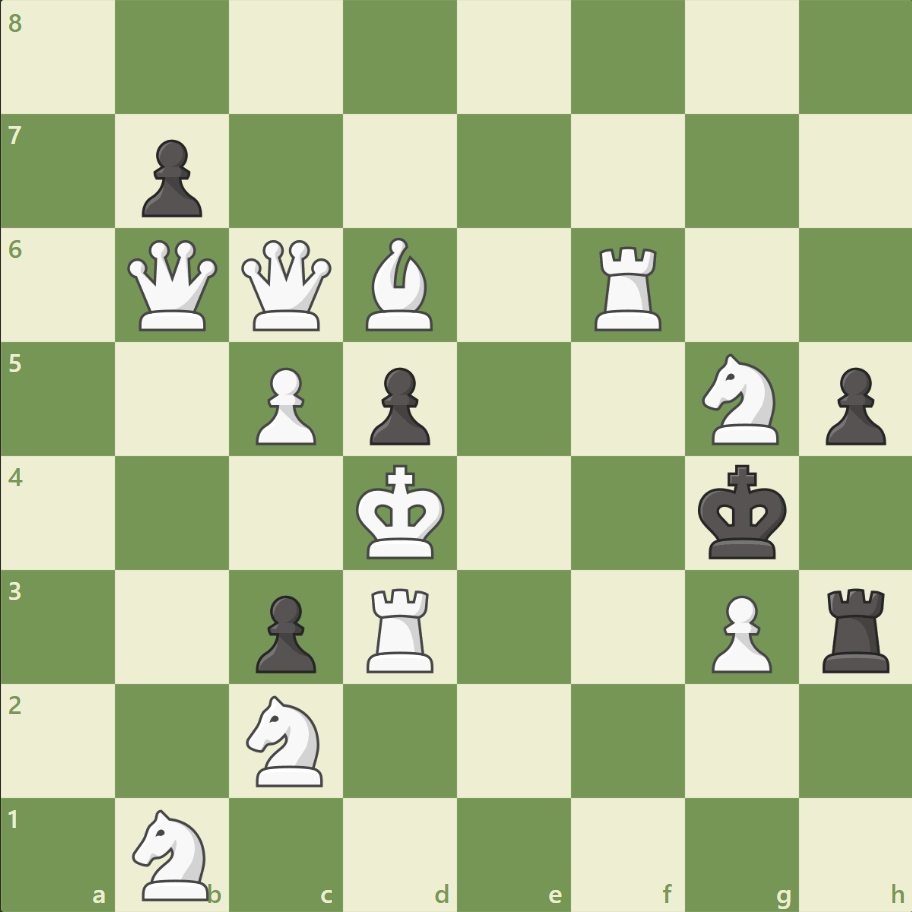B: (358, 233, 442, 336)
K: (351, 458, 451, 566)
N: (124, 802, 222, 904), (238, 688, 335, 791), (692, 348, 789, 450)
P: (247, 359, 322, 450), (701, 586, 776, 677)
Q: (124, 236, 223, 335), (237, 236, 336, 335)
R: (587, 239, 670, 336), (360, 579, 442, 676)
k: (692, 458, 792, 566)
p: (133, 132, 208, 223), (247, 586, 322, 677), (361, 359, 435, 450), (815, 359, 889, 450)
r: (814, 579, 897, 676)
